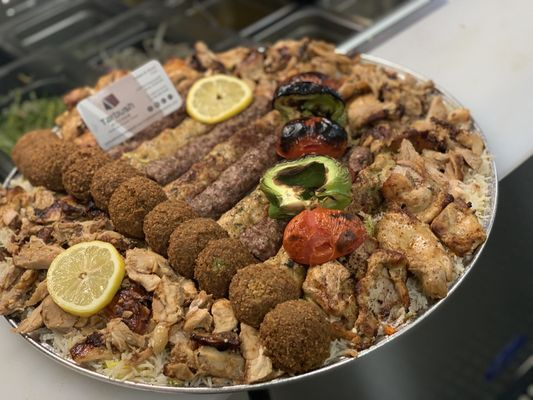sushi: (2, 35, 503, 396)
